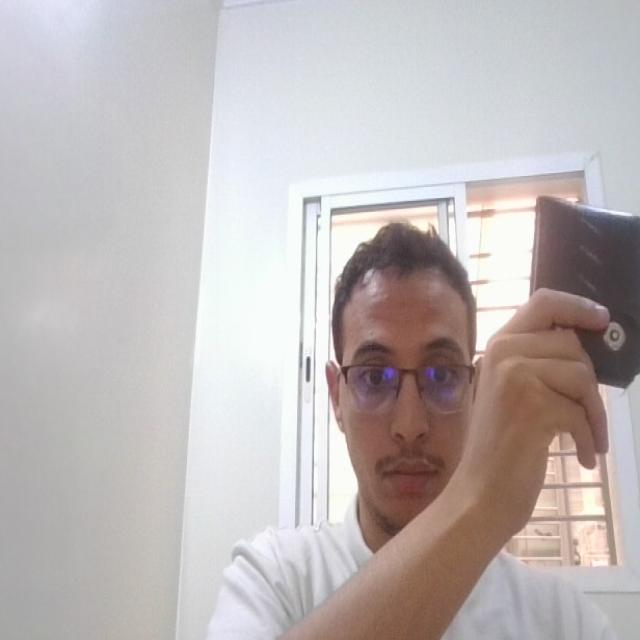wallet: (528, 190, 640, 399)
